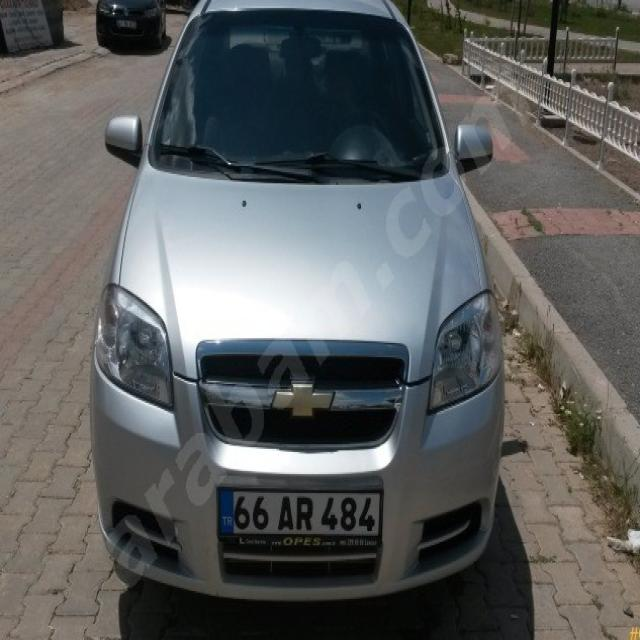license_plate: (217, 488, 381, 538)
